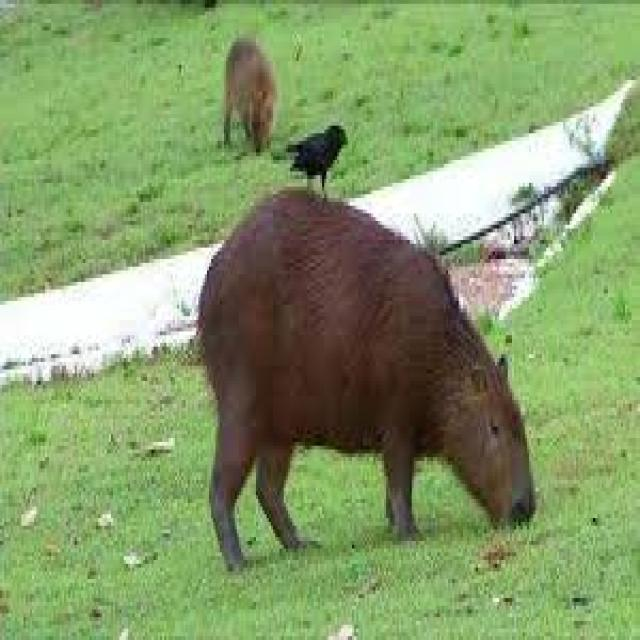capy: (197, 192, 538, 572), (220, 33, 278, 159)
